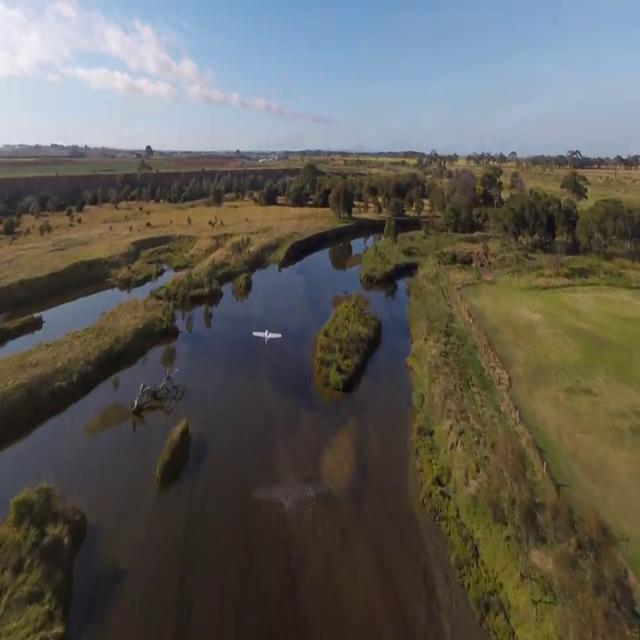iha: (243, 328, 277, 348)
